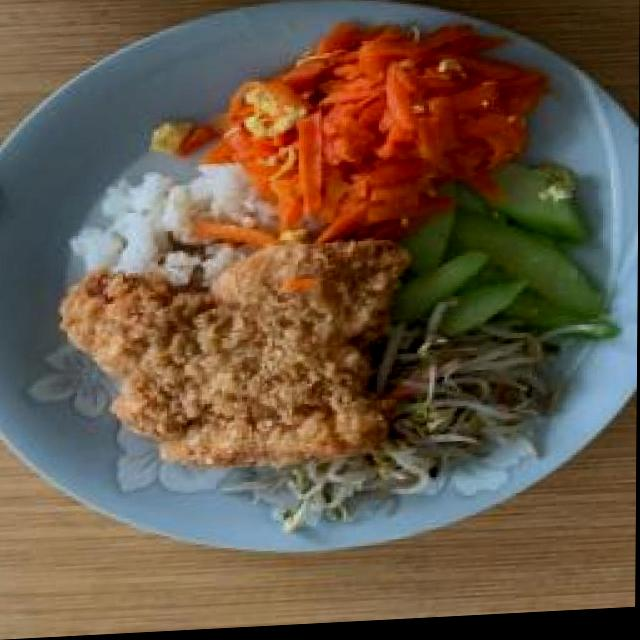carrot_eggs: (226, 26, 525, 226)
fried_chicken: (54, 236, 414, 484)
mung_bean_sprouts: (375, 323, 549, 465)
rice: (61, 168, 255, 270)
